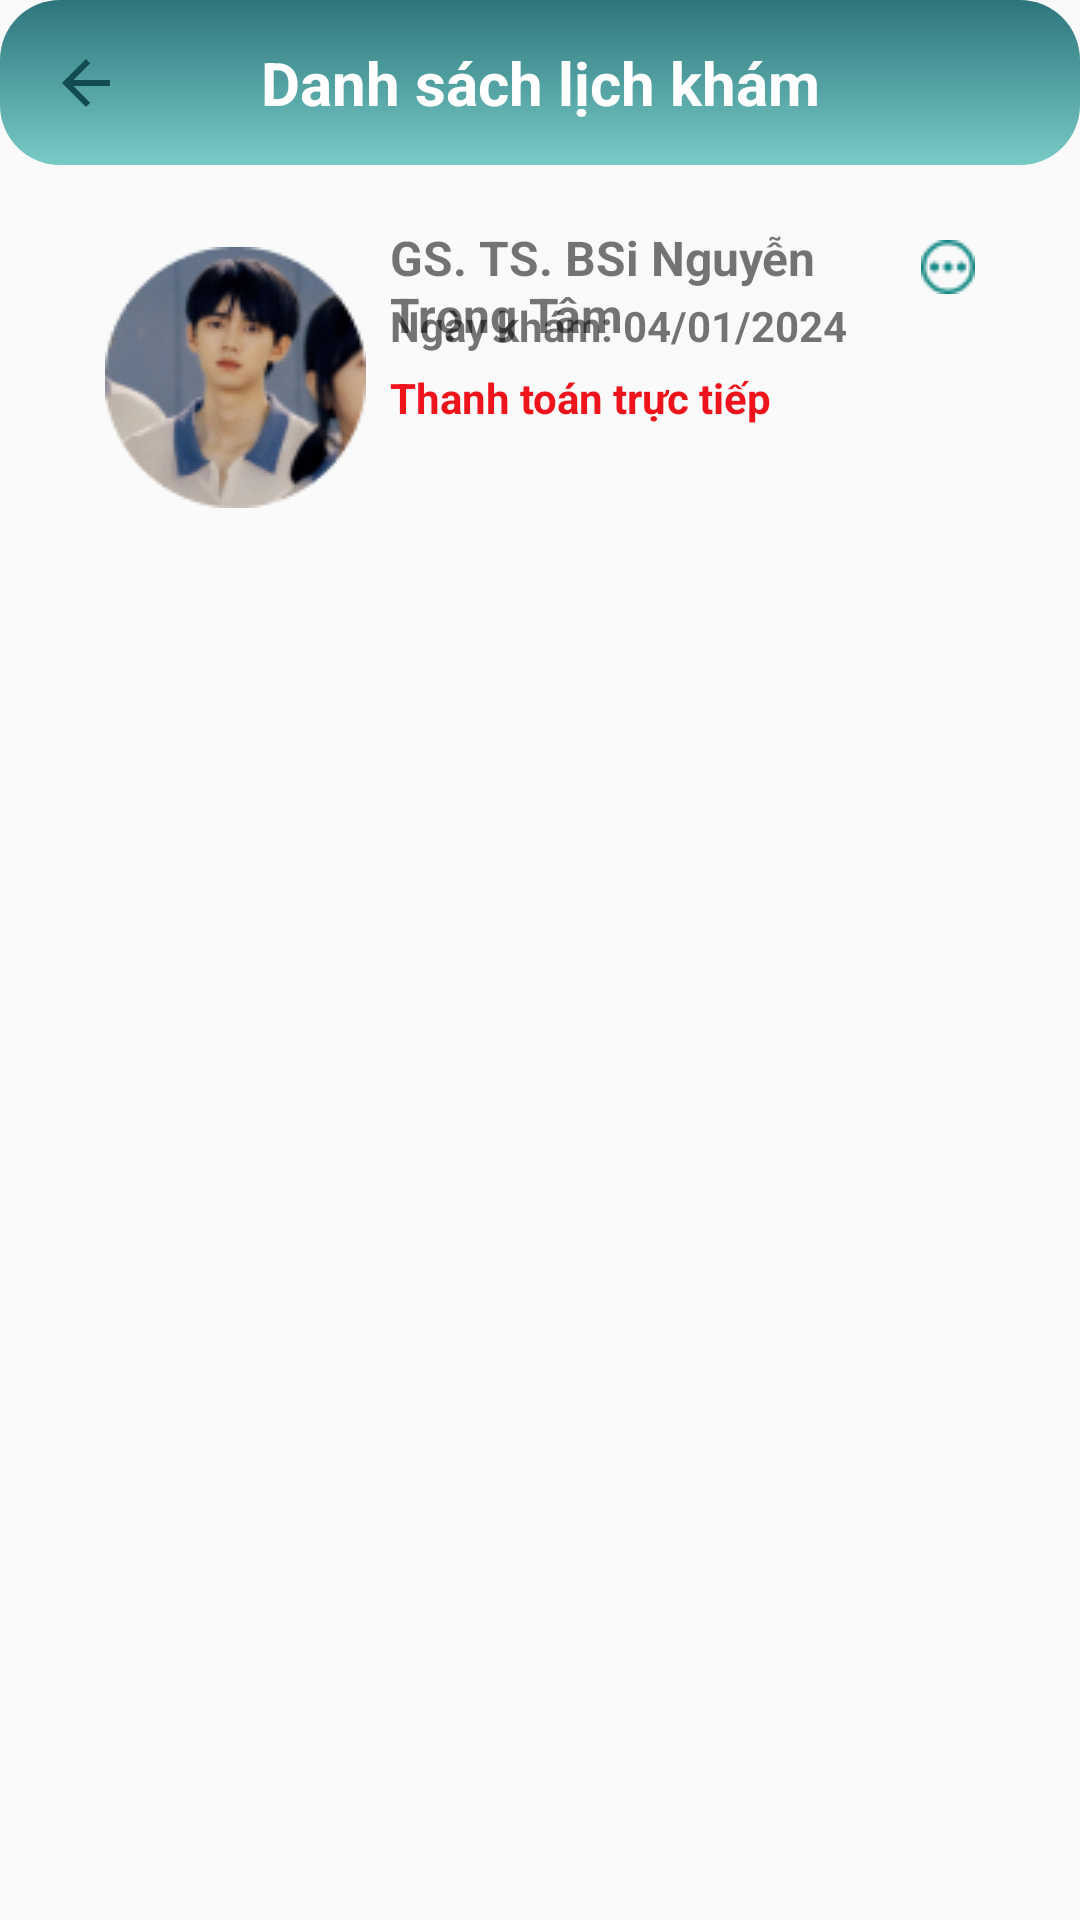

Icon click points for this 1080px×1920px phone screenshot, format point (x, y):
click for option: point (948, 267)
